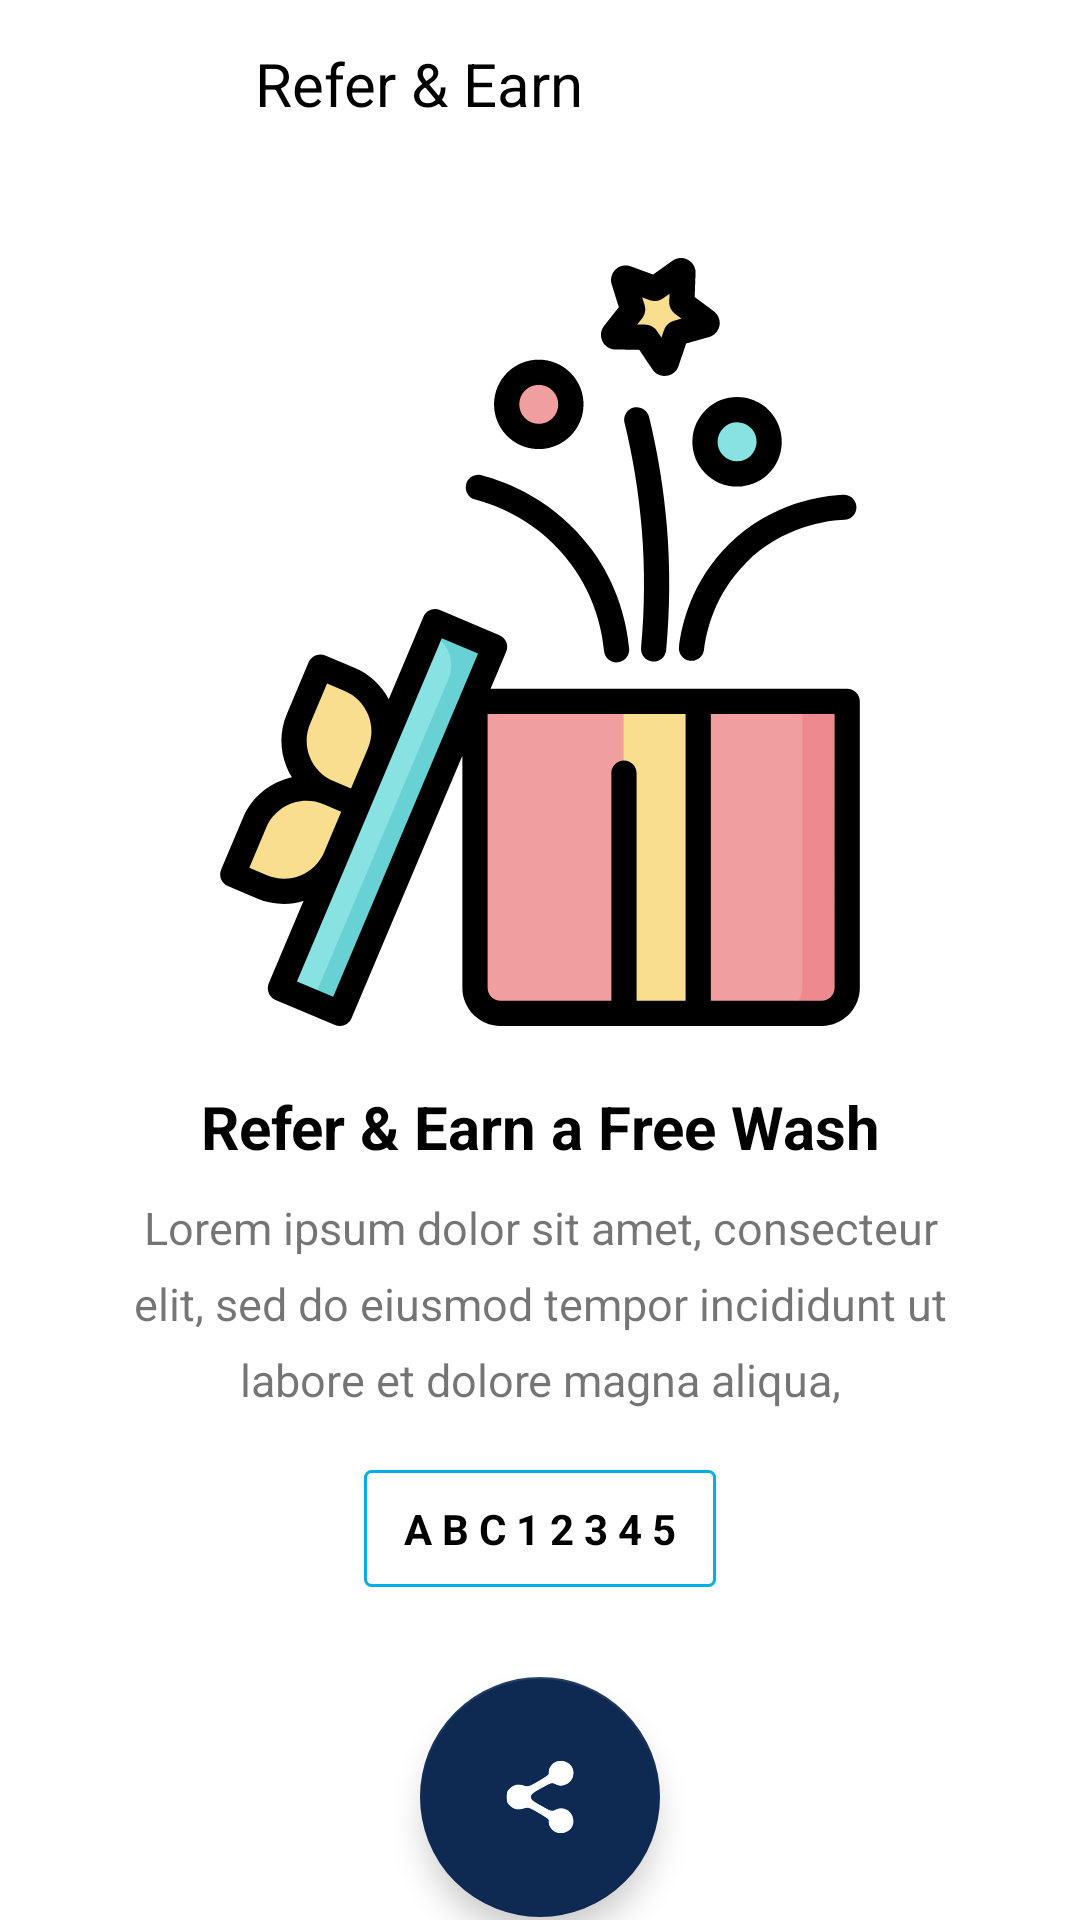

Point at icon controls on the screen. Image size 1080x1920, points as (x,y).
share: (540,1797)
